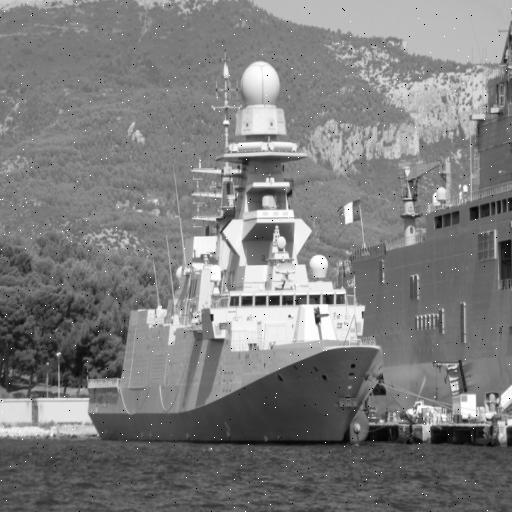Fragata: (88, 48, 389, 446)
